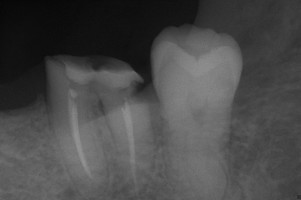Endo-Periodontal Lesion: (93, 96, 106, 120)
